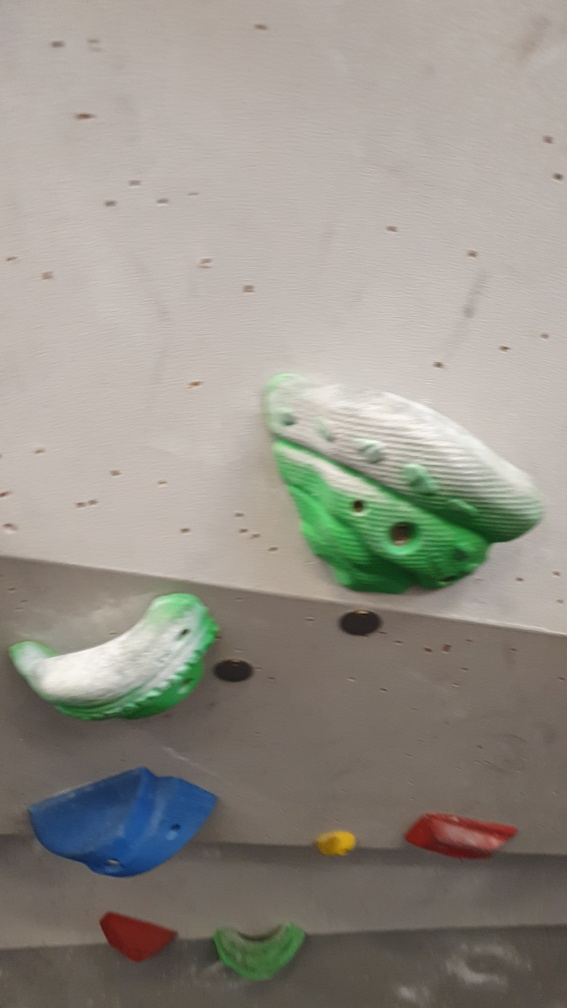Crimp: (402, 806, 518, 871)
Hand Start: (326, 604, 394, 641), (208, 648, 261, 690)
Jug: (254, 363, 548, 600), (8, 591, 222, 727), (211, 919, 315, 988)
Pinch: (26, 756, 224, 884)
